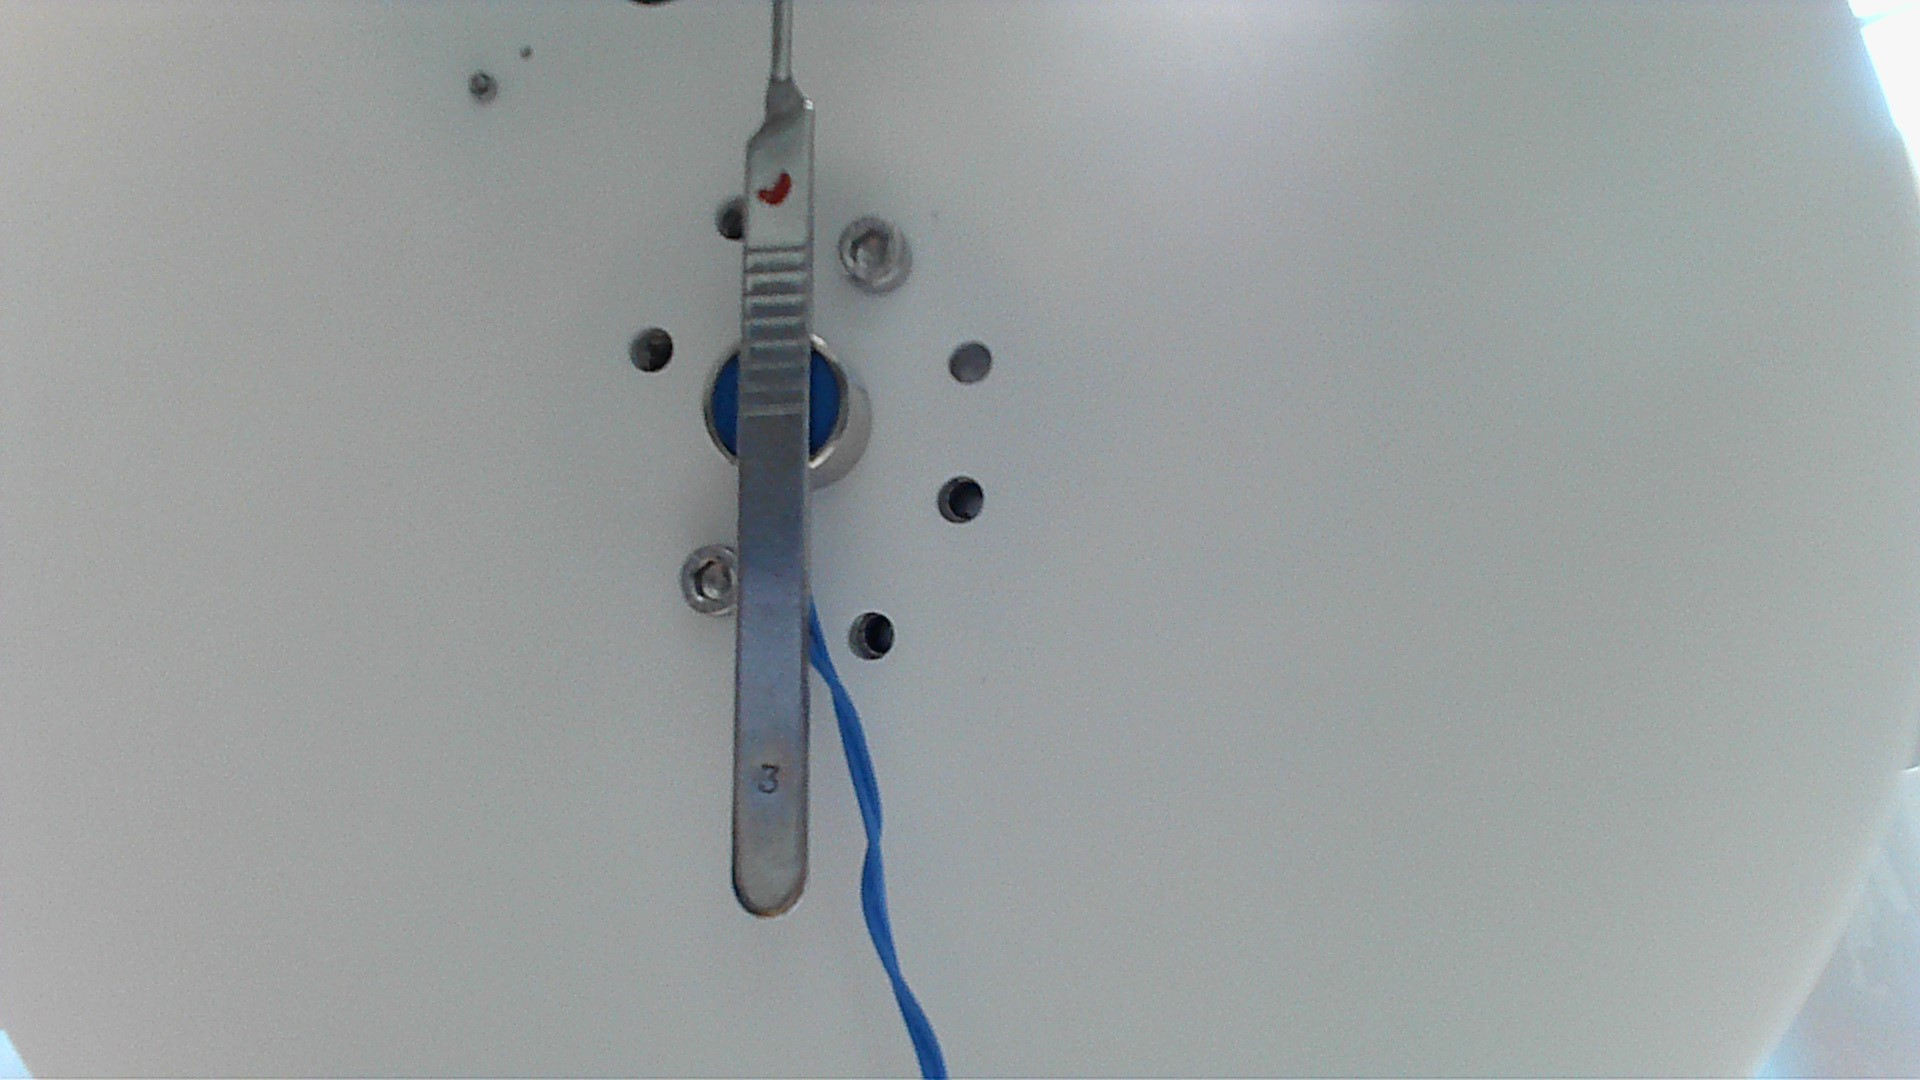Stain: (753, 165, 803, 216)
